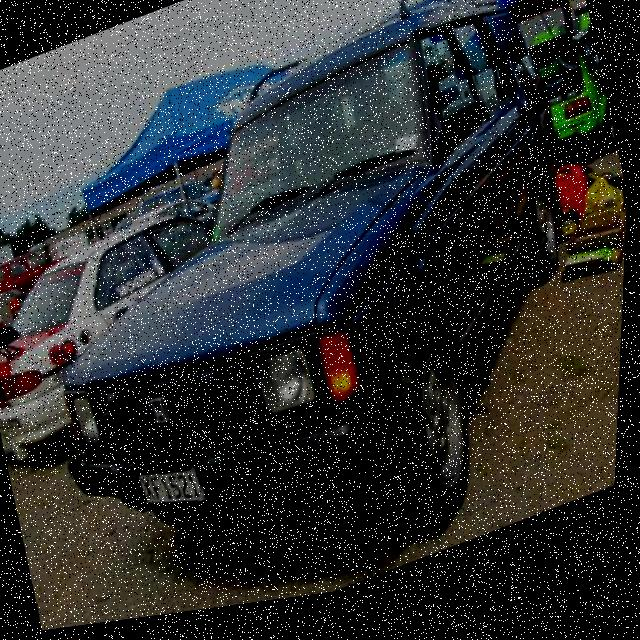license_plate: (141, 457, 212, 528)
